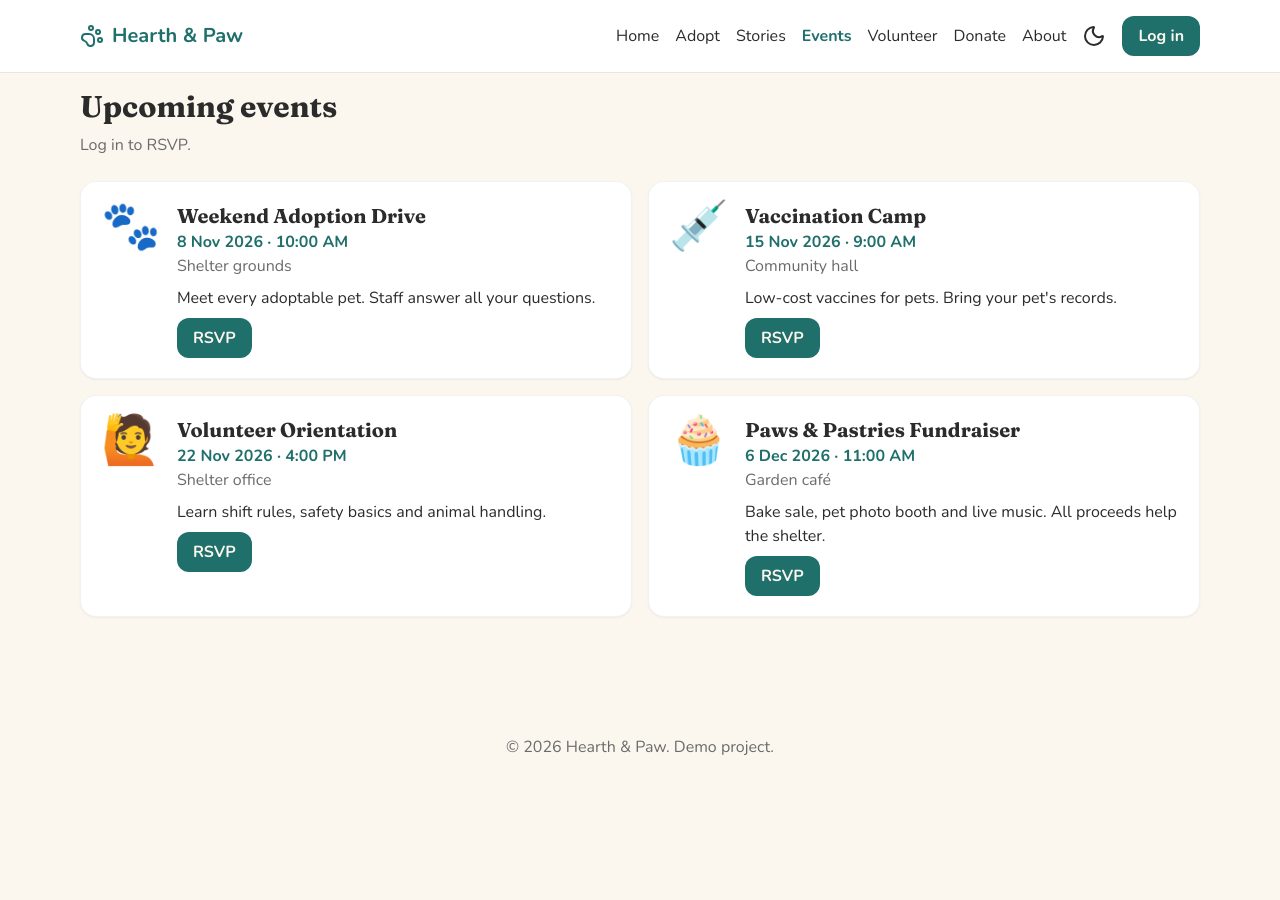
Test: events RSVP redirects to login when signed out
Click the button "RSVP" below "Shelter grounds": (214, 338) x1=177 y1=318 x2=252 y2=358
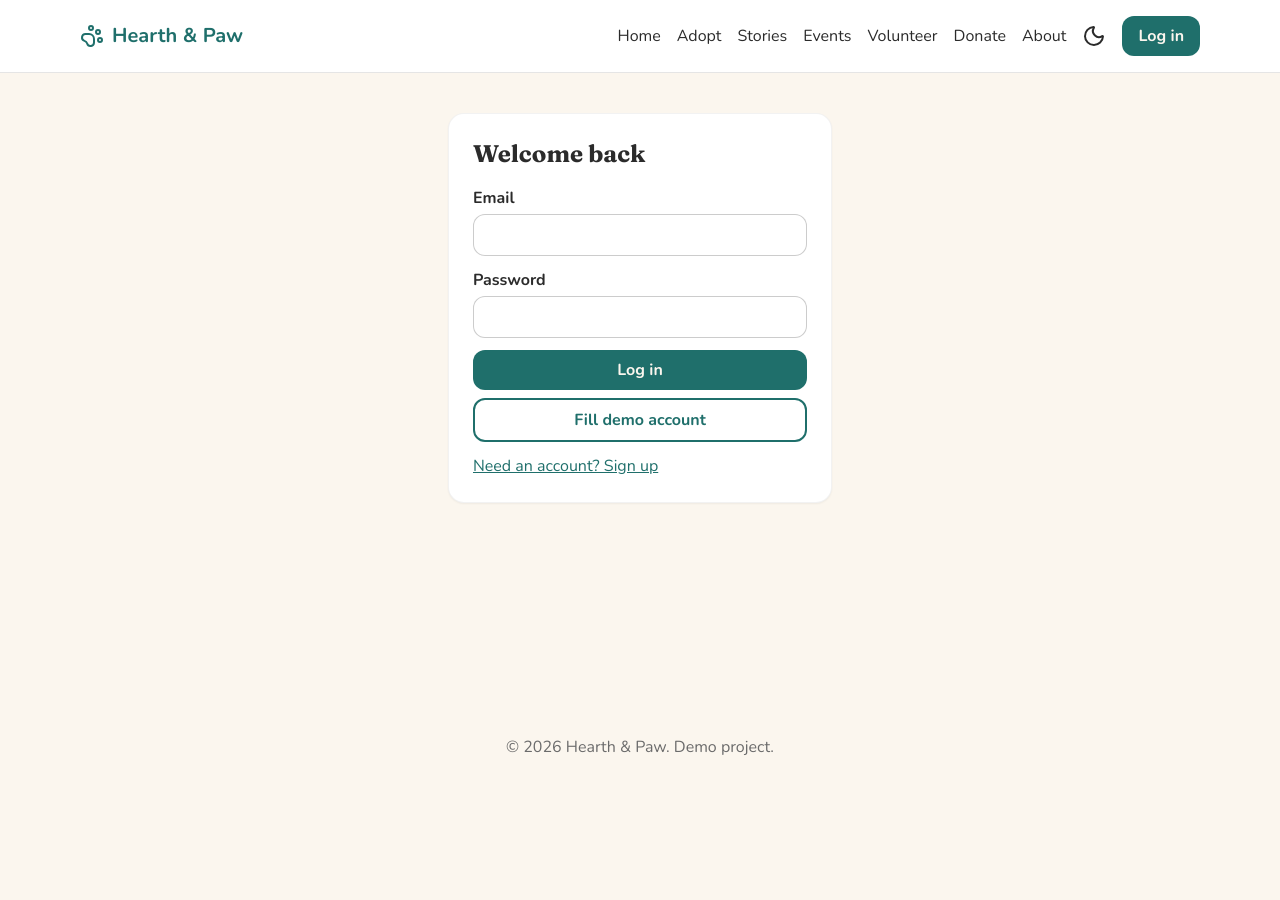
Check: the heading "Welcome back" is shown, box x1=473 y1=139 x2=645 y2=168
